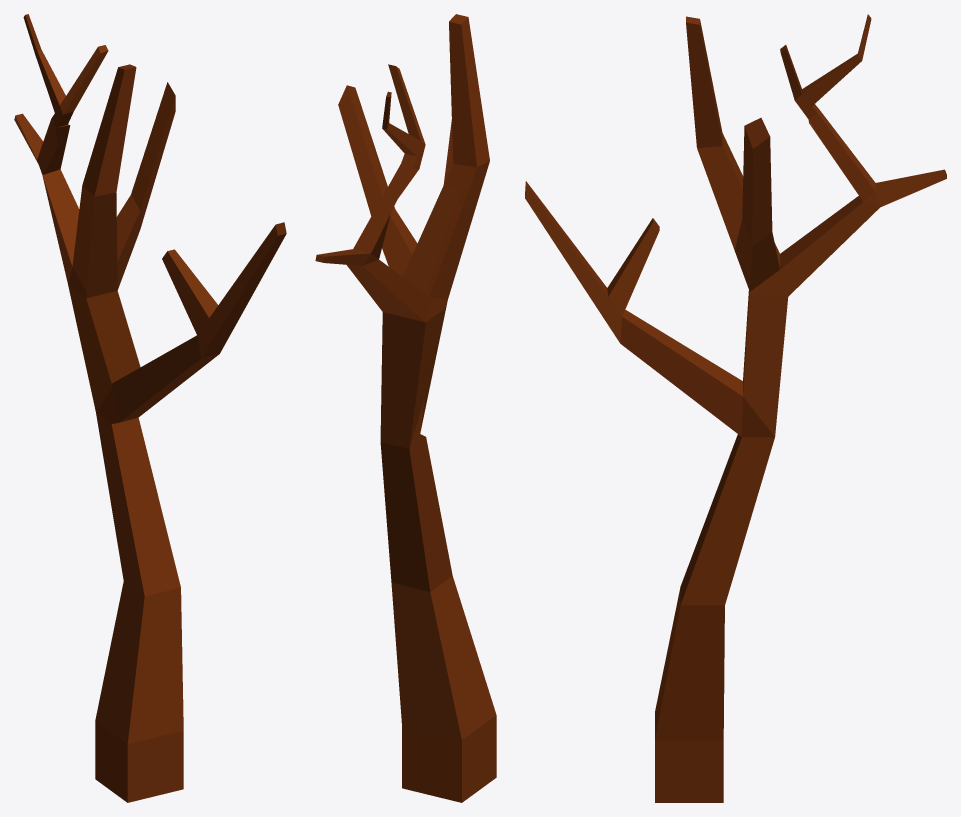
Rendered from Dead_Tree2.fbx.
3 views of the same model, side by side, from view 1: azimuth 30°, elevation 25°; view 2: azimuth 150°, elevation 25°; view 3: azimuth 270°, elevation 25° (orthographic). The views are drawn at different scales.
Parts seen in each view (by area): view 1: Cube; view 2: Cube; view 3: Cube.
Boxes of the visible parts, x1,y1,x2,y2 form: Cube: (14, 14, 286, 802); Cube: (315, 14, 496, 802); Cube: (525, 14, 946, 802).
Bounding box in the file's own units: 143 × 884 × 443.
